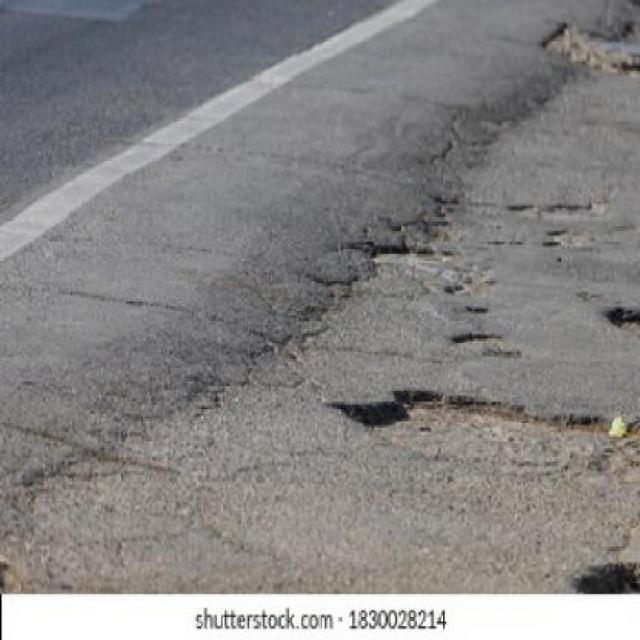Pothole: (329, 390, 609, 432)
